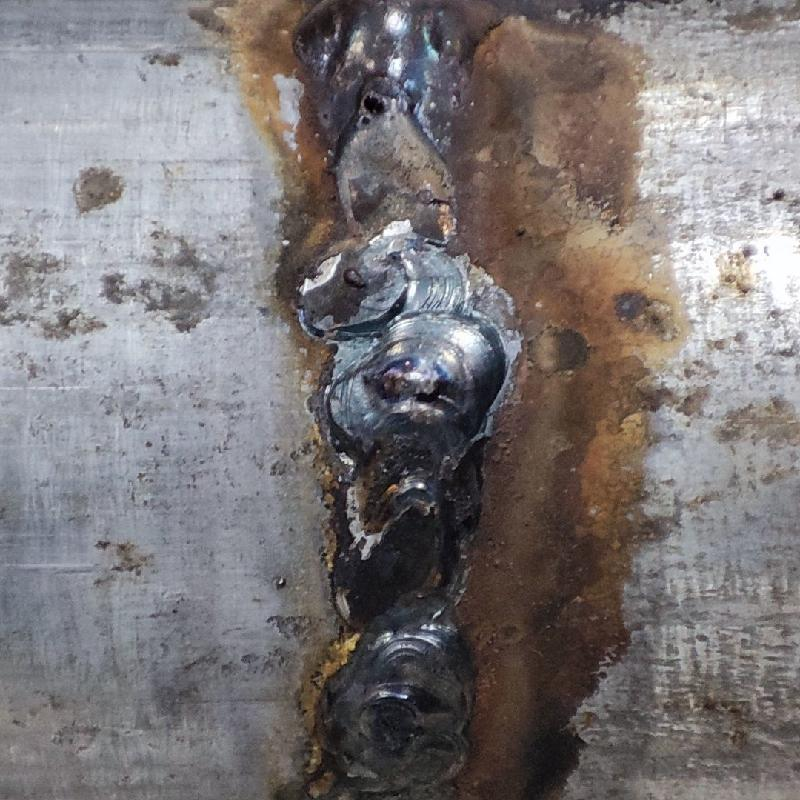Not_fully_soldered: (320, 80, 466, 249)
Surface_pores: (348, 87, 416, 137)
wrong_size: (300, 251, 504, 797)
